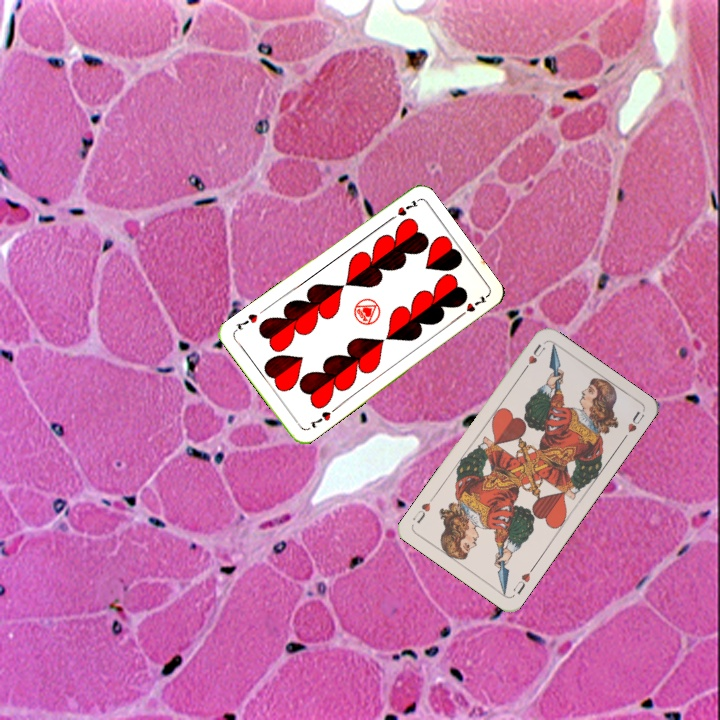H7: (384, 196, 421, 224), (306, 407, 333, 431)
HU: (519, 340, 548, 375), (509, 563, 537, 597)
